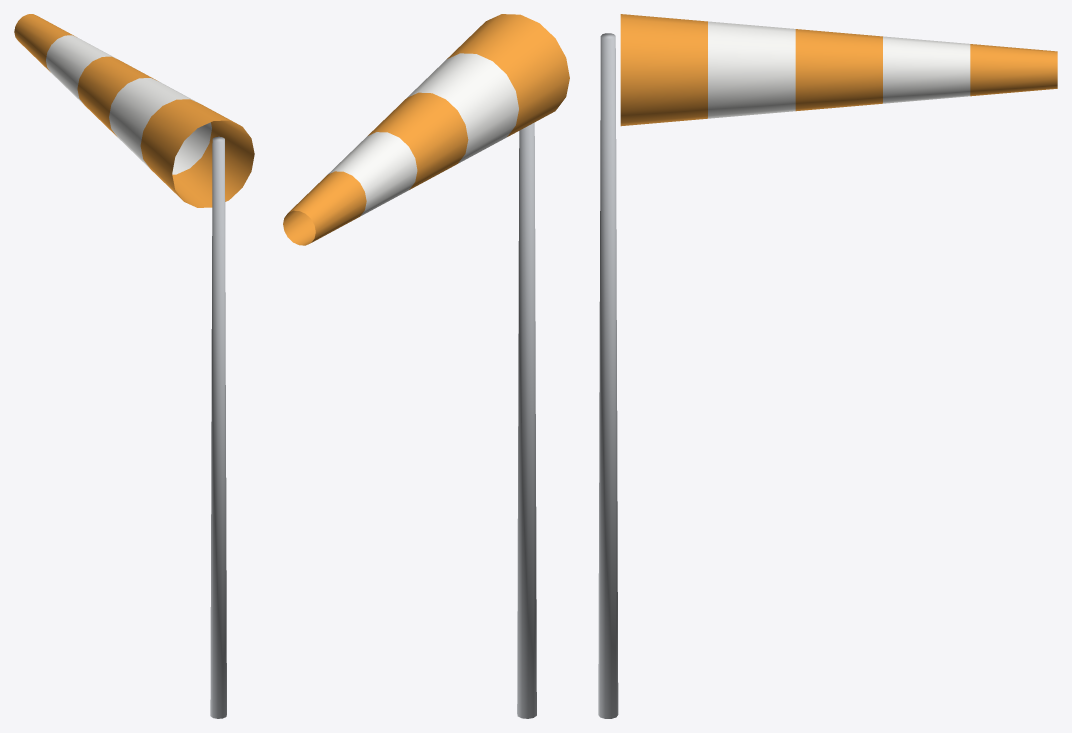
File: windsock.glb
3 views of the same model, side by side, from view 1: azimuth 30°, elevation 25°; view 2: azimuth 150°, elevation 25°; view 3: azimuth 270°, elevation 25° (orthographic). The views are drawn at different scales.
Parts seen in each view (by area): view 1: SockPole, Sock, Sock.001, Sock.002, Sock.003, Sock.004; view 2: SockPole, Sock, Sock.001, Sock.002, Sock.003, Sock.004; view 3: SockPole, Sock, Sock.001, Sock.002, Sock.003, Sock.004.
Boxes of the visible parts, x1,y1,x2,y2 form: SockPole: (210,136,226,718); Sock: (140,99,254,207); Sock.001: (109,78,211,174); Sock.002: (77,56,158,136); Sock.003: (46,35,118,104); Sock.004: (14,14,75,72); SockPole: (517,122,536,718); Sock: (446,14,569,136); Sock.001: (407,53,518,163); Sock.002: (368,92,468,189); Sock.003: (328,132,417,216); Sock.004: (283,171,366,245); SockPole: (598,33,618,718); Sock: (620,14,707,126); Sock.001: (708,21,795,118); Sock.002: (795,29,882,111); Sock.003: (883,36,970,103); Sock.004: (970,44,1057,96).
Bounding box in the file's own units: 0.9 × 6.15 × 3.68.
